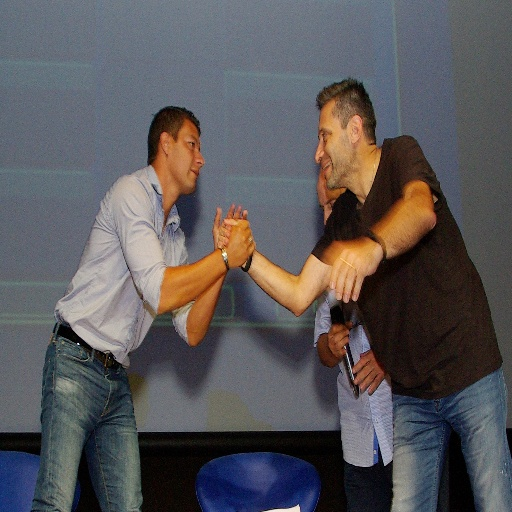hand: (329, 239, 382, 304), (323, 319, 359, 378), (210, 201, 249, 248), (351, 348, 389, 395), (222, 216, 256, 268), (215, 215, 236, 249)
